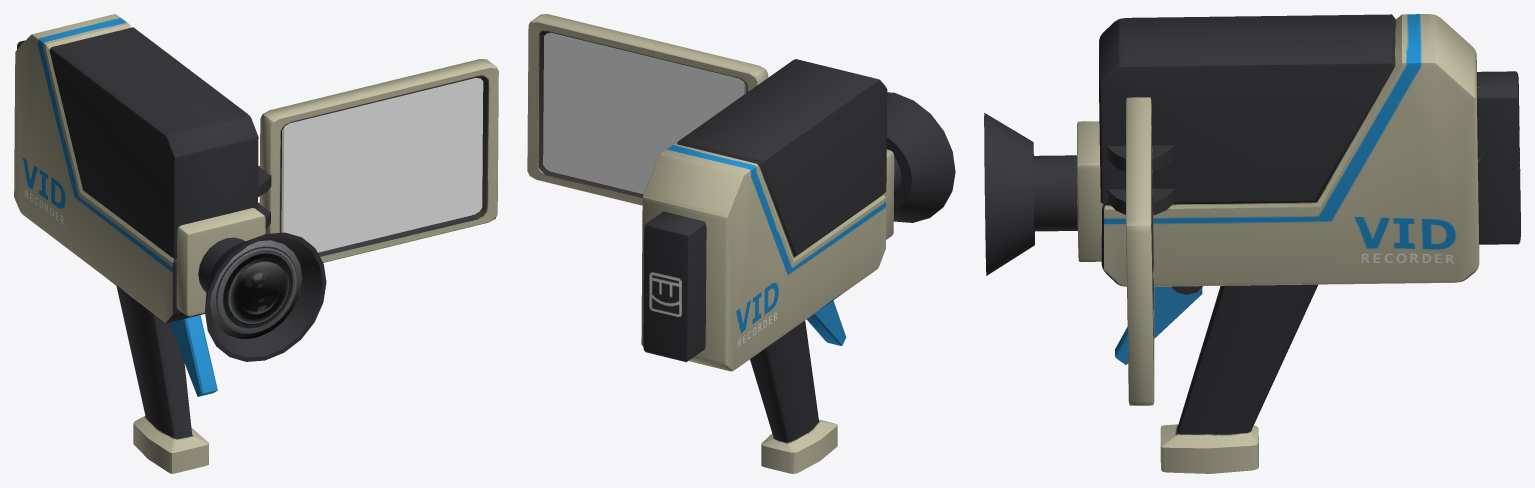
File: vid cam.glb
3 views of the same model, side by side, from view 1: azimuth 30°, elevation 25°; view 2: azimuth 150°, elevation 25°; view 3: azimuth 270°, elevation 25° (orthographic). The views are drawn at different scales.
Parts seen in each view (by area): view 1: Gif_Camera_New; view 2: Gif_Camera_New; view 3: Gif_Camera_New.
Boxes of the visible parts, bbox=[...] form: Gif_Camera_New: bbox=[14, 14, 498, 473]; Gif_Camera_New: bbox=[527, 14, 955, 473]; Gif_Camera_New: bbox=[984, 14, 1520, 473].
Size of the model in its own units: 0.3583 by 0.351 by 0.4004.
1 material, 1 textured.
